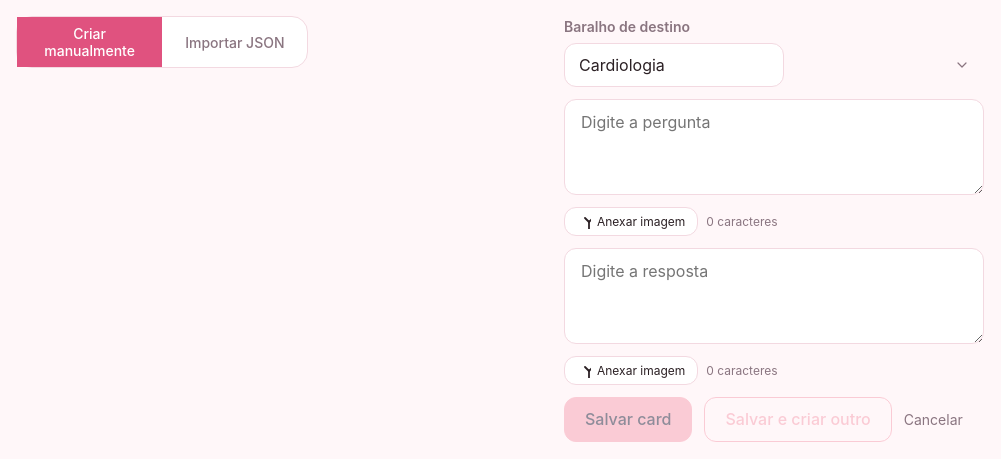
Test: NewCard › limpa o formulário ao clicar em Cancelar
In the text box with placeholder "Digite a pergunta": [774, 147] box [564, 99, 984, 195], type "Pergunta"
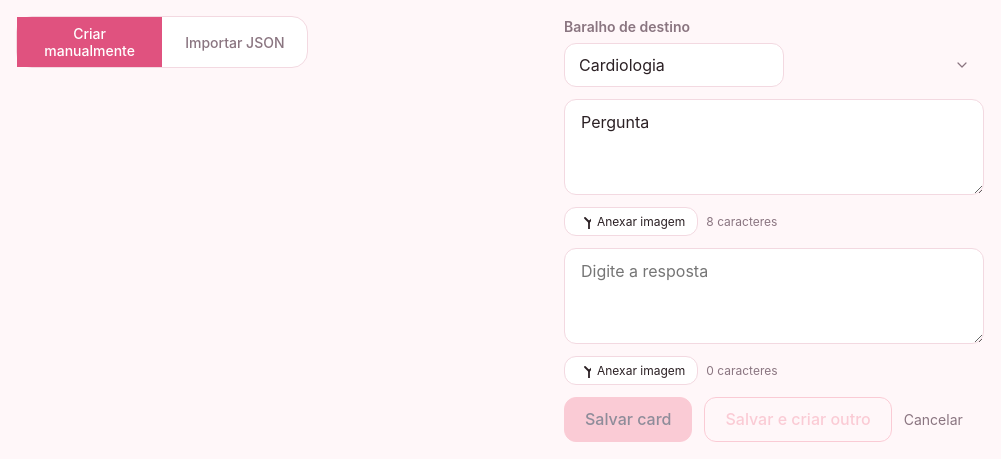
In the text box with placeholder "Digite a resposta": [774, 296] box [564, 248, 984, 344], type "Resposta"
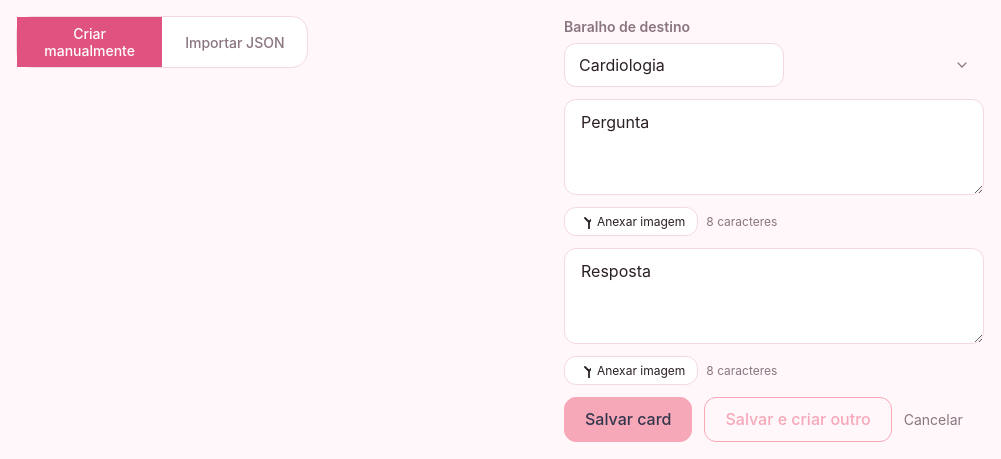
Click the button "Cancelar": [933, 420] box [904, 397, 963, 442]
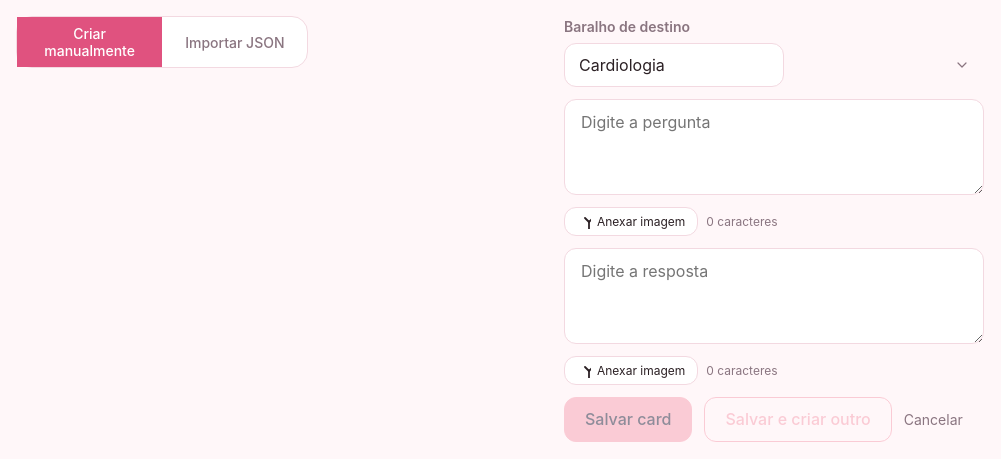
Expected: the text box with placeholder "Digite a pergunta" is empty, [564, 99, 984, 195]
Expected: the text box with placeholder "Digite a resposta" is empty, [564, 248, 984, 344]
